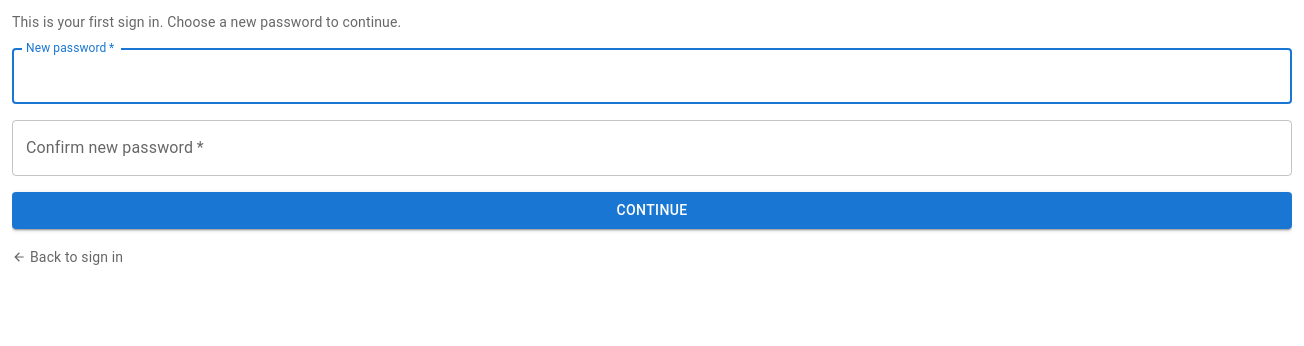
Test: NewPasswordStep › shows the server error message when the new password is rejected
The width and height of the screenshot is (1304, 346).
Type "weak" into the password field labelled "New password *" at (652, 76), box [12,48,1292,104]
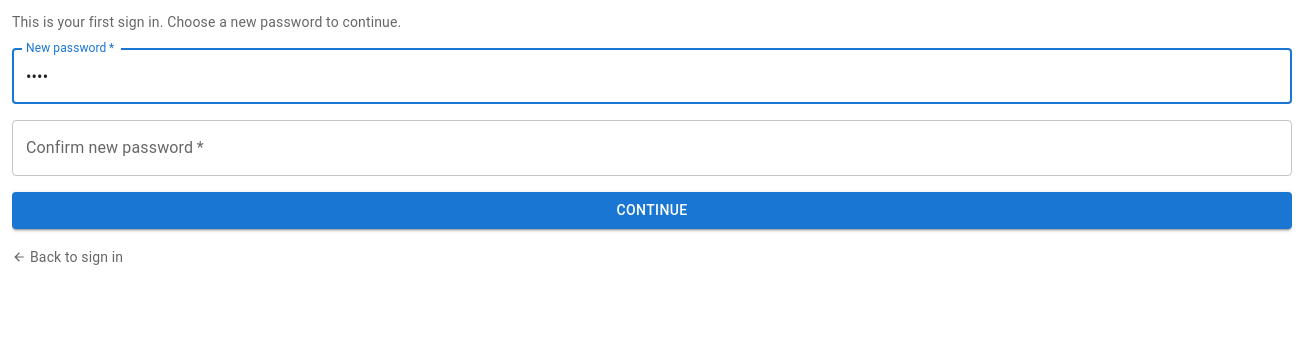
Type "weak" into the password field labelled "Confirm new password *" at (652, 148), box [12,120,1292,176]
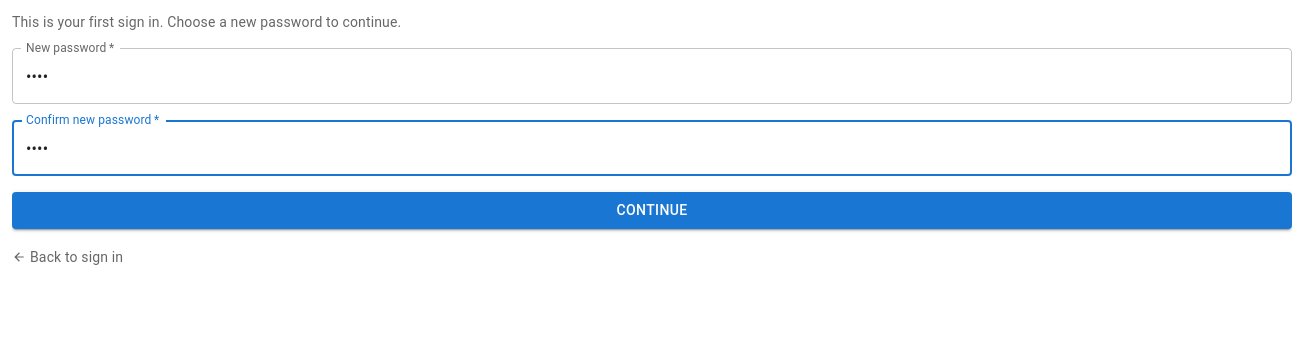
Click the button "Continue" at (652, 210), box [12,192,1292,228]
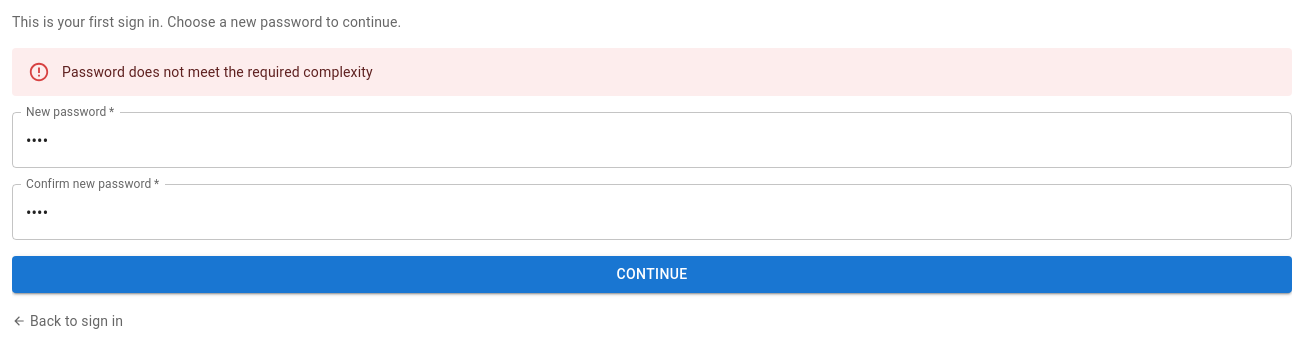
Expected: the text "Password does not meet the required complexity" is shown, [62,64,373,80]
